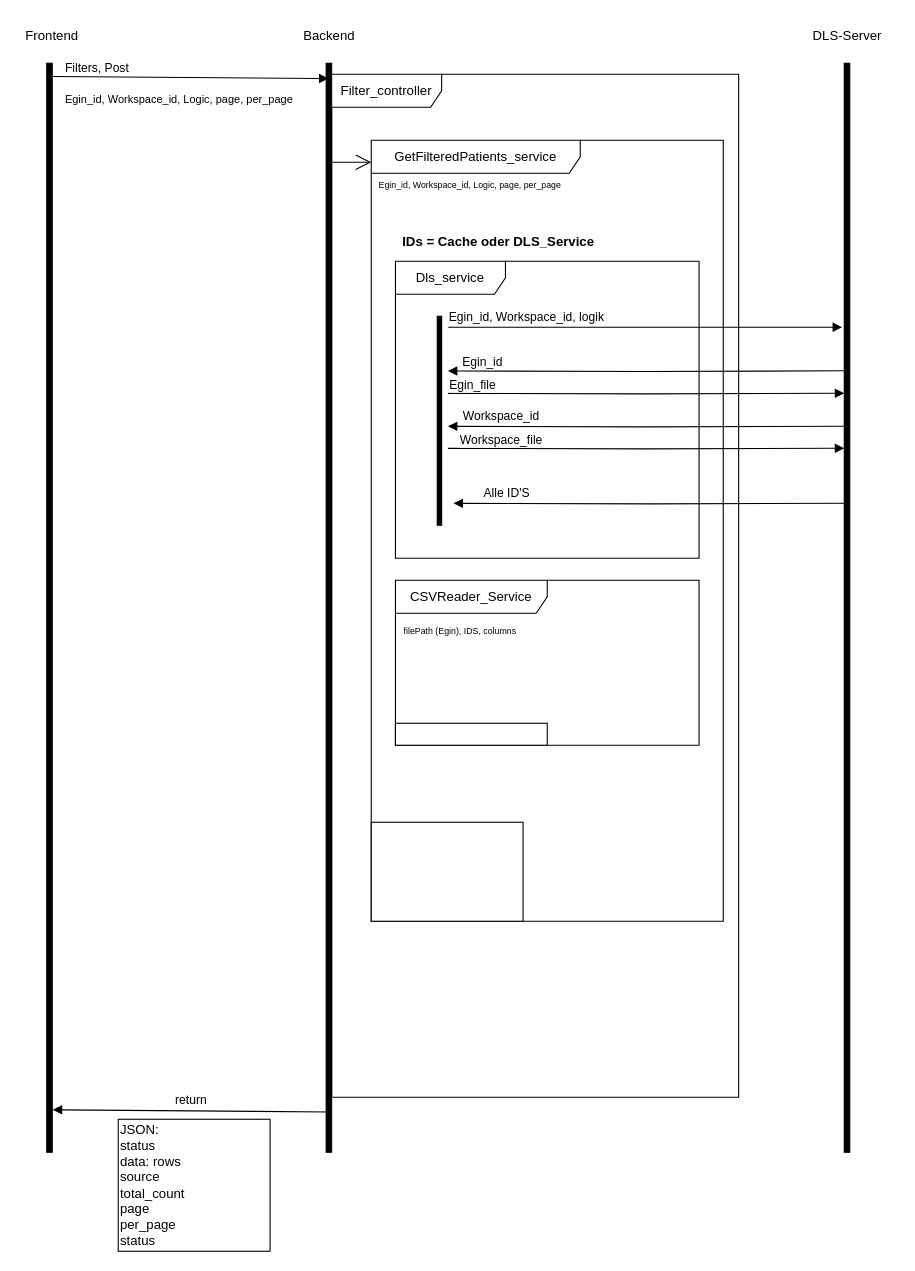
Image size: 915x1271. Some labels were removed from this diagram. The centre of each missing label's shape, as x and y in pixels:
data: rows: point 470,733
data: rows source total_count page per_page status: point 446,871
